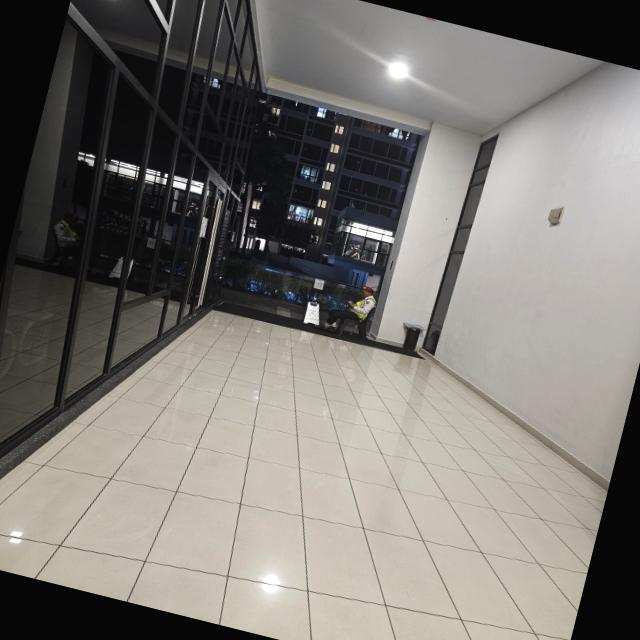footpath: (105, 301, 626, 640)
obstacle: (394, 320, 428, 356), (298, 298, 326, 330)
person: (331, 276, 392, 342)
